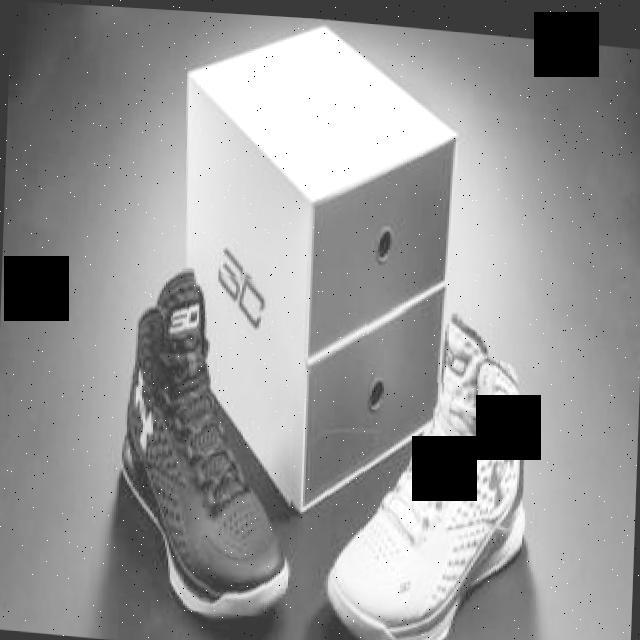shoe: (322, 297, 530, 640), (114, 259, 298, 616)
